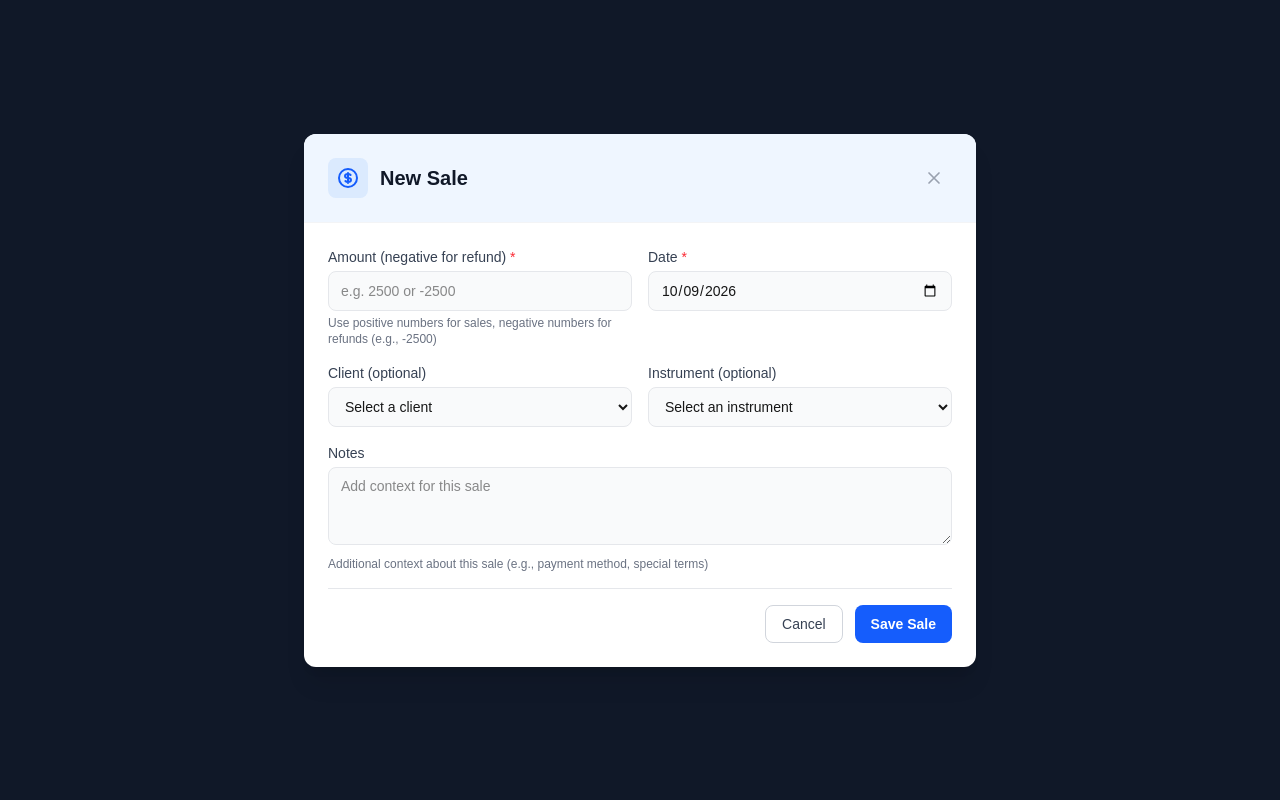
Test: SaleForm › should reject zero sale price
Type "0" into the number field labelled "Amount (negative for refund) *" at (480, 290), box x1=328 y1=270 x2=632 y2=310
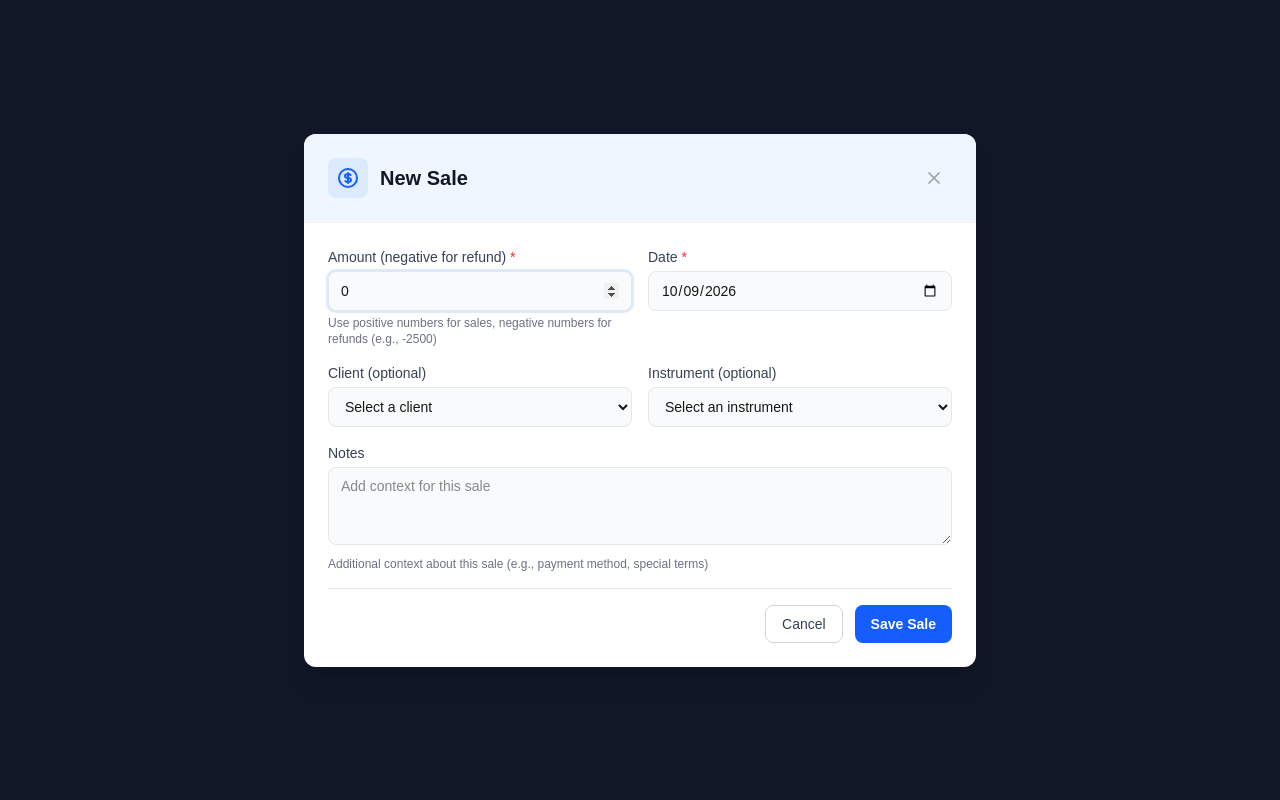
Type "2024-01-15" into the date field labelled "Date *" at (800, 290), box x1=648 y1=270 x2=952 y2=310
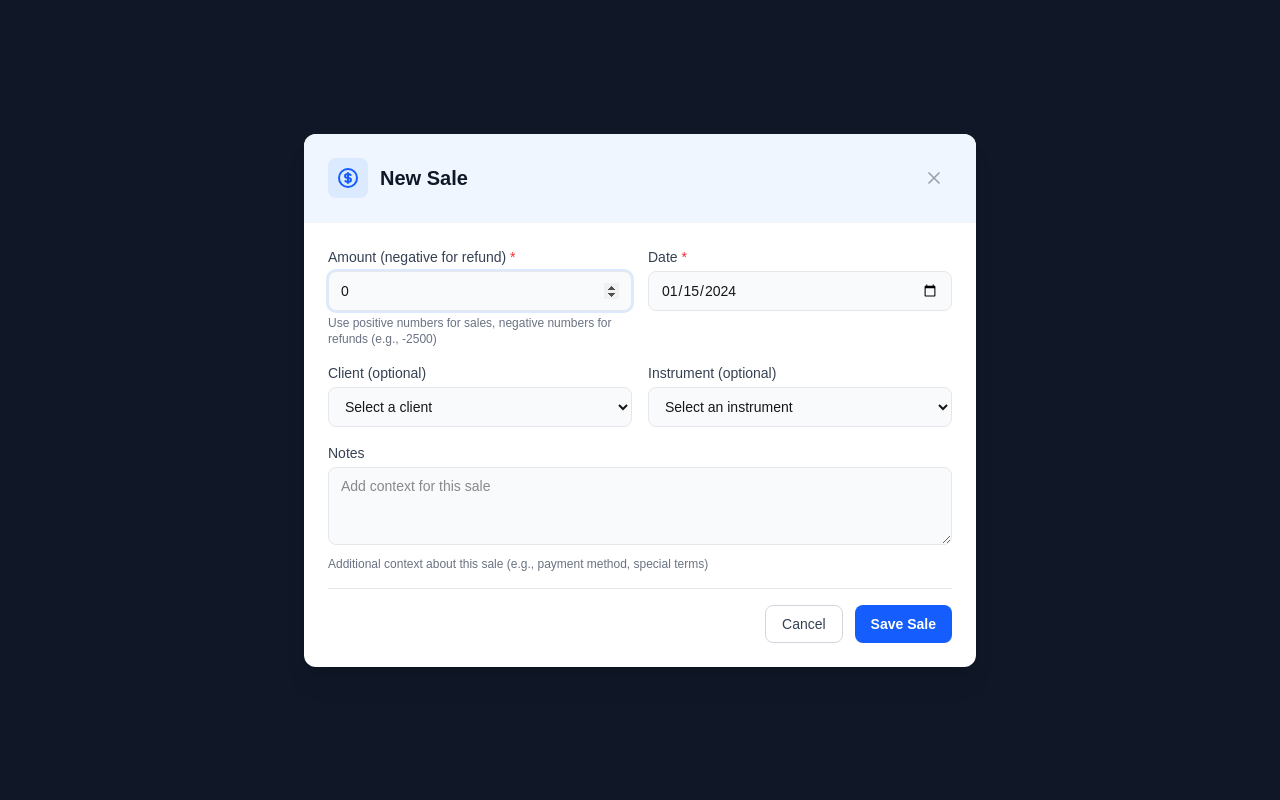
Click the button "Save Sale" at (903, 624), box x1=855 y1=604 x2=952 y2=642
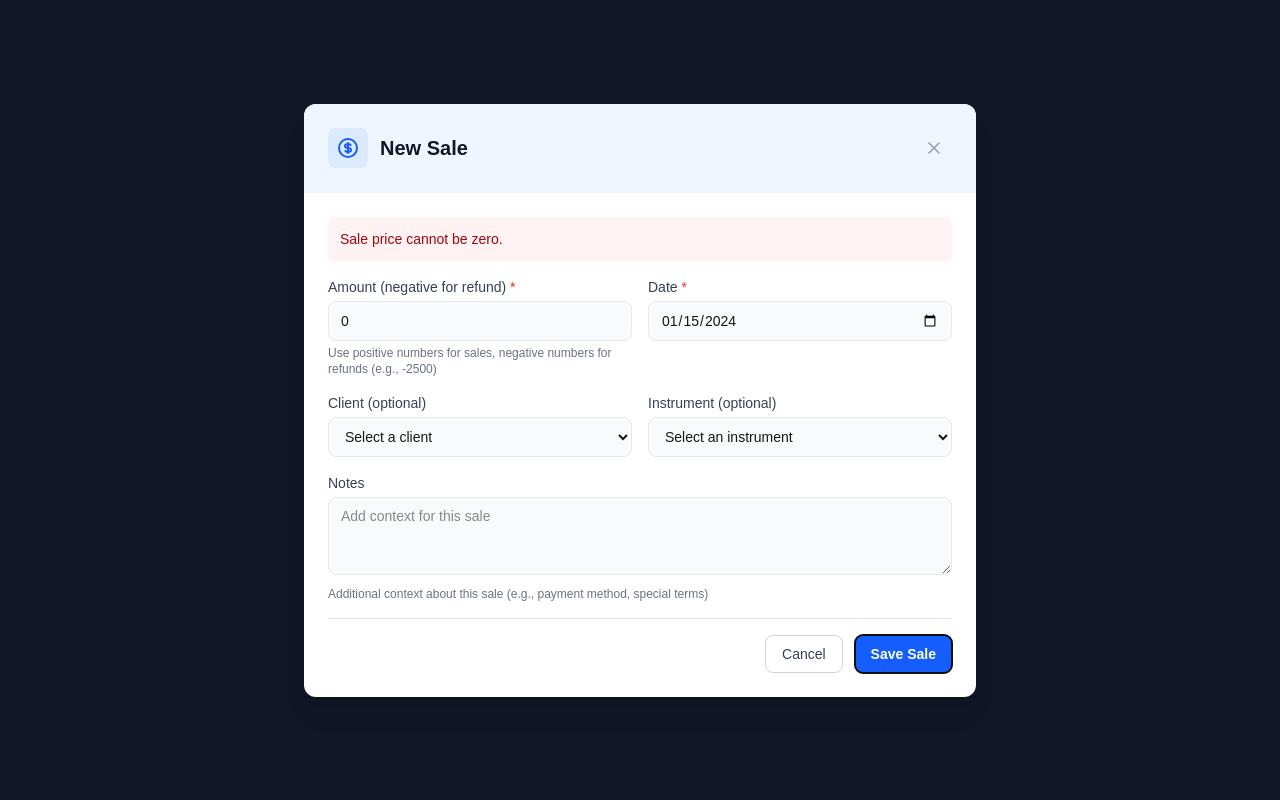
Expected: the text "Sale price cannot be zero." is shown, x1=340 y1=230 x2=503 y2=246
